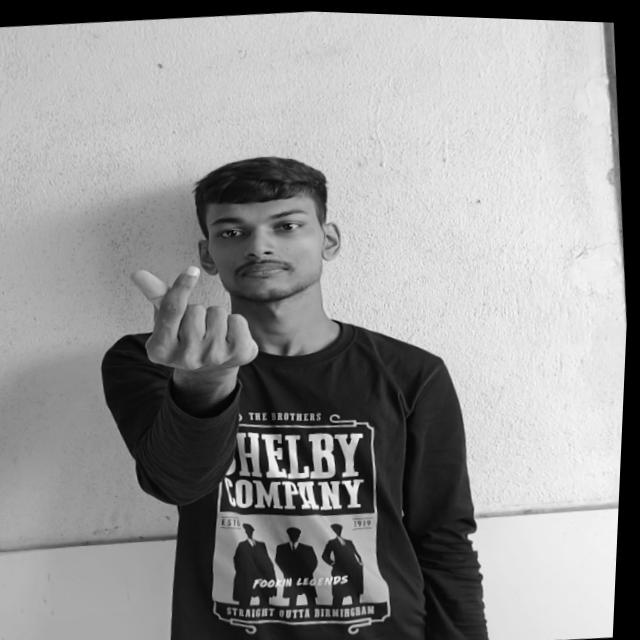Grattitude: (127, 253, 266, 382)
